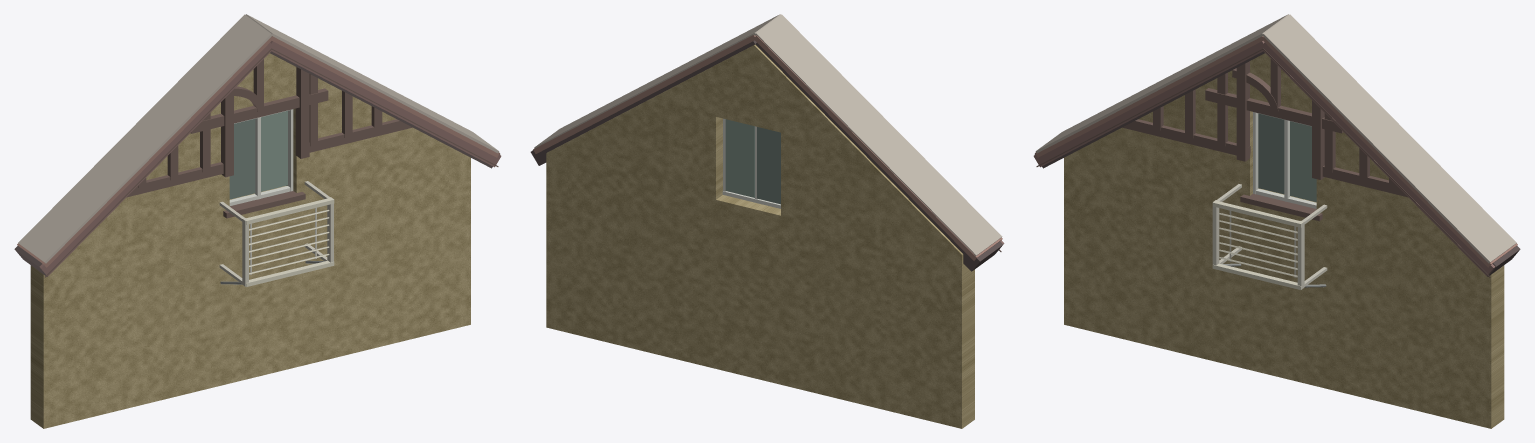
Rendered from fuxing-563-gable-timberwork-near.glb.
3 views of the same model, side by side, from view 1: azimuth 30°, elevation 25°; view 2: azimuth 150°, elevation 25°; view 3: azimuth 330°, elevation 25° (orthographic). The views are drawn at different scales.
Parts seen in each view (by area): view 1: 复兴中路563号住宅山墙木格与悬挑百叶罩; view 2: 复兴中路563号住宅山墙木格与悬挑百叶罩; view 3: 复兴中路563号住宅山墙木格与悬挑百叶罩.
Boxes of the visible parts, bbox=[...] form: 复兴中路563号住宅山墙木格与悬挑百叶罩: bbox=[14, 14, 501, 428]; 复兴中路563号住宅山墙木格与悬挑百叶罩: bbox=[530, 14, 1004, 428]; 复兴中路563号住宅山墙木格与悬挑百叶罩: bbox=[1033, 14, 1520, 428].
Bounding box in the file's own units: 6.4 × 4.68 × 0.958.
Materials: 12 (1 with a texture image).
